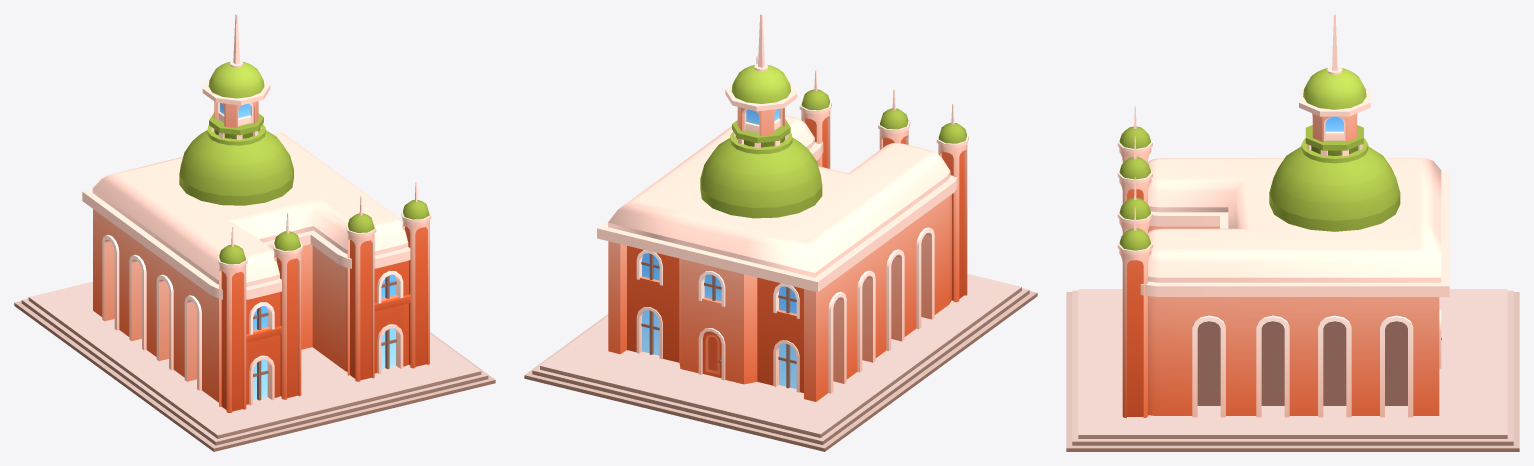
Rendered from Building_Temple_01.glb.
3 views of the same model, side by side, from view 1: azimuth 30°, elevation 25°; view 2: azimuth 150°, elevation 25°; view 3: azimuth 270°, elevation 25° (orthographic). The views are drawn at different scales.
Visible parts, largest first — view 1: Building_Temple_01; view 2: Building_Temple_01; view 3: Building_Temple_01.
Part boxes in pixels (box(x1,y1,x2,y2)): Building_Temple_01: box(14, 14, 495, 451); Building_Temple_01: box(524, 14, 1037, 451); Building_Temple_01: box(1066, 14, 1519, 451).
Size of the model in its own units: 20.1 by 21.58 by 24.65.
Materials: 1 (1 with a texture image).
